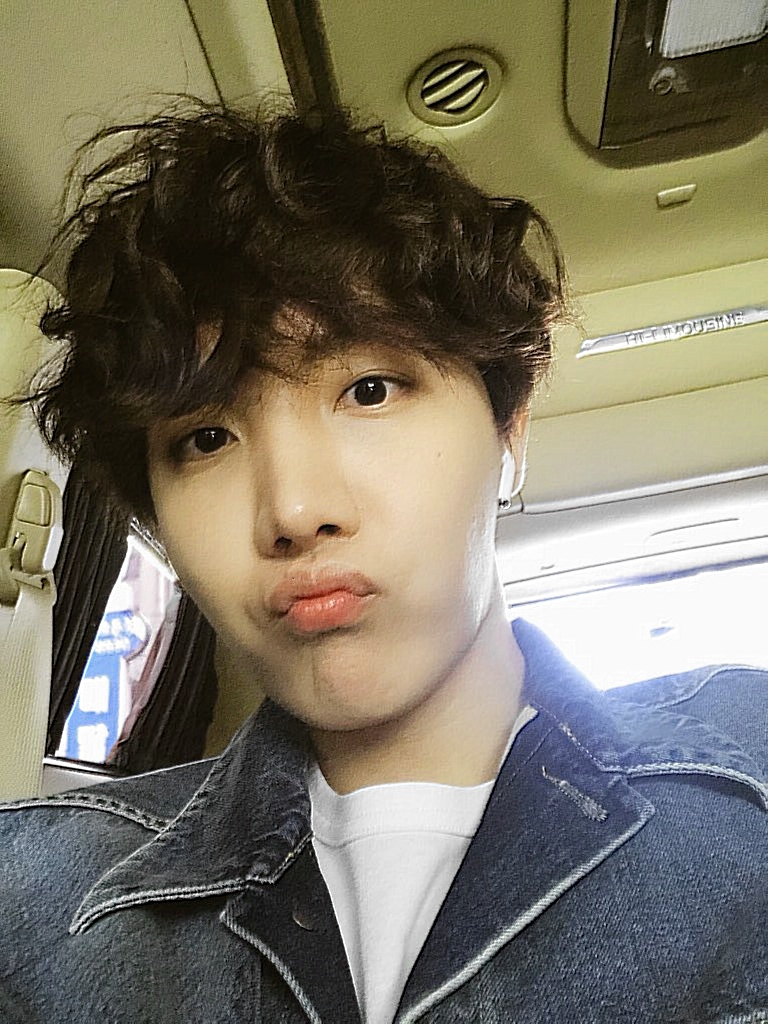earphone: (498, 400, 531, 508)
